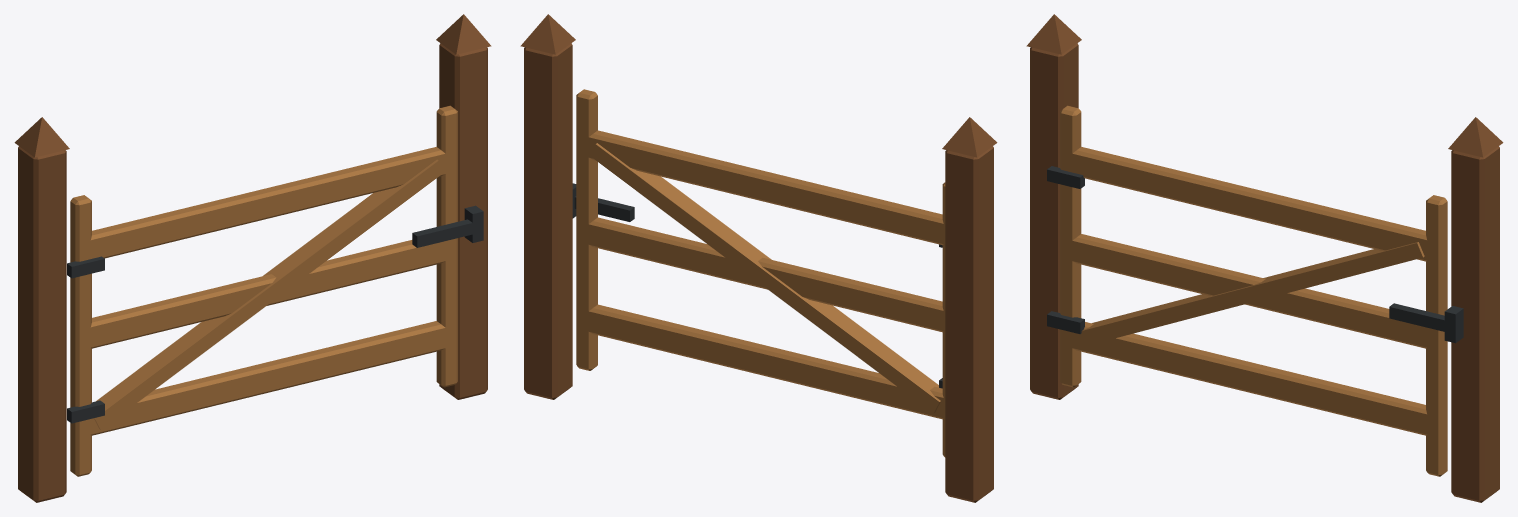
File: vil_fence_gate_v01.glb
3 renders of one model, left to right at view 1: azimuth 30°, elevation 25°; view 2: azimuth 150°, elevation 25°; view 3: azimuth 330°, elevation 25°, orthographic.
Visible parts, largest first — view 1: fence_gate; view 2: fence_gate; view 3: fence_gate.
Part boxes in pixels (left/top/right/bottom): fence_gate: left=14, top=14, right=491, bottom=502; fence_gate: left=520, top=14, right=997, bottom=502; fence_gate: left=1026, top=14, right=1503, bottom=502.
Size of the model in its own units: 1.65 by 1.3 by 0.1886.
